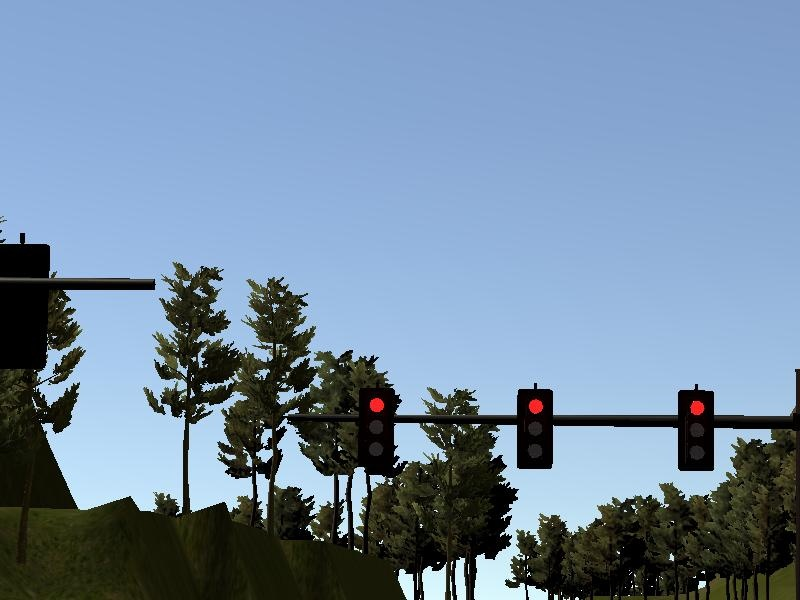red: (514, 382, 558, 472), (677, 385, 717, 474), (356, 384, 395, 470)
